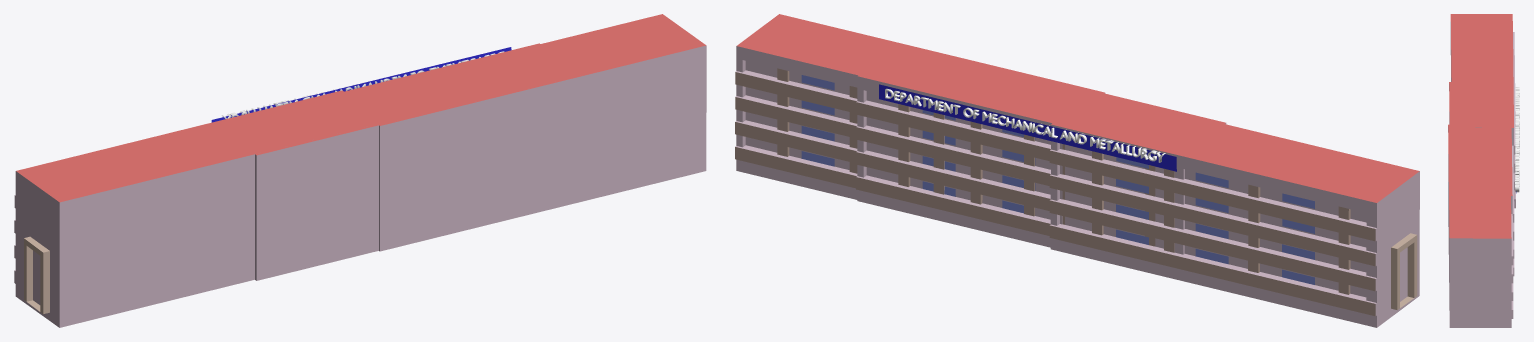
The model's file is mmd.glb.
3 renders of one model, left to right at view 1: azimuth 30°, elevation 25°; view 2: azimuth 150°, elevation 25°; view 3: azimuth 270°, elevation 25°, orthographic. The views are drawn at different scales.
Parts seen in each view (by area): view 1: Plane.001, Cube.002, Plane, Text; view 2: Plane.001, Plane, Text, Cube.002; view 3: Plane.001, Text.
Part boxes in pixels (x1,y1,x2,y2): Plane.001: [14, 14, 706, 327]; Cube.002: [24, 236, 49, 314]; Plane: [211, 47, 511, 122]; Text: [222, 51, 504, 118]; Plane.001: [735, 14, 1419, 327]; Plane: [879, 84, 1176, 171]; Text: [885, 88, 1165, 162]; Cube.002: [1391, 233, 1417, 310]; Plane.001: [1448, 14, 1515, 327]; Text: [1515, 87, 1519, 192].
Bounding box in the file's own units: 38.34 × 7.08 × 5.12.
